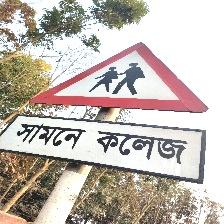College-in-front: (0, 41, 224, 173)
